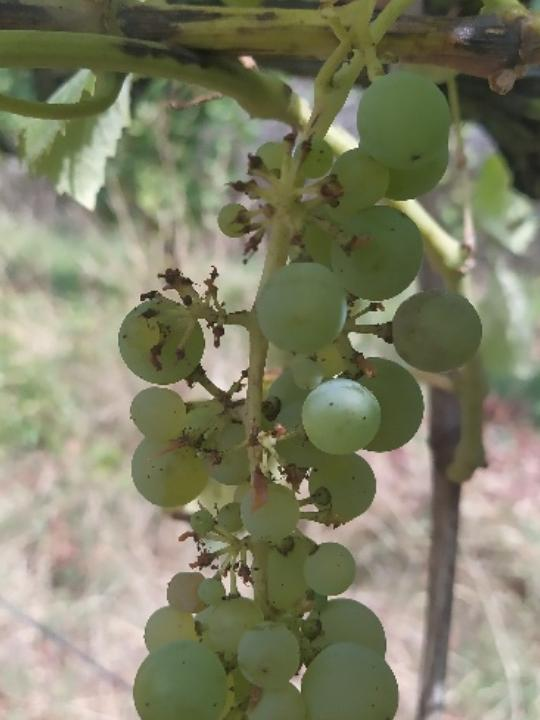grape: (111, 65, 490, 720)
